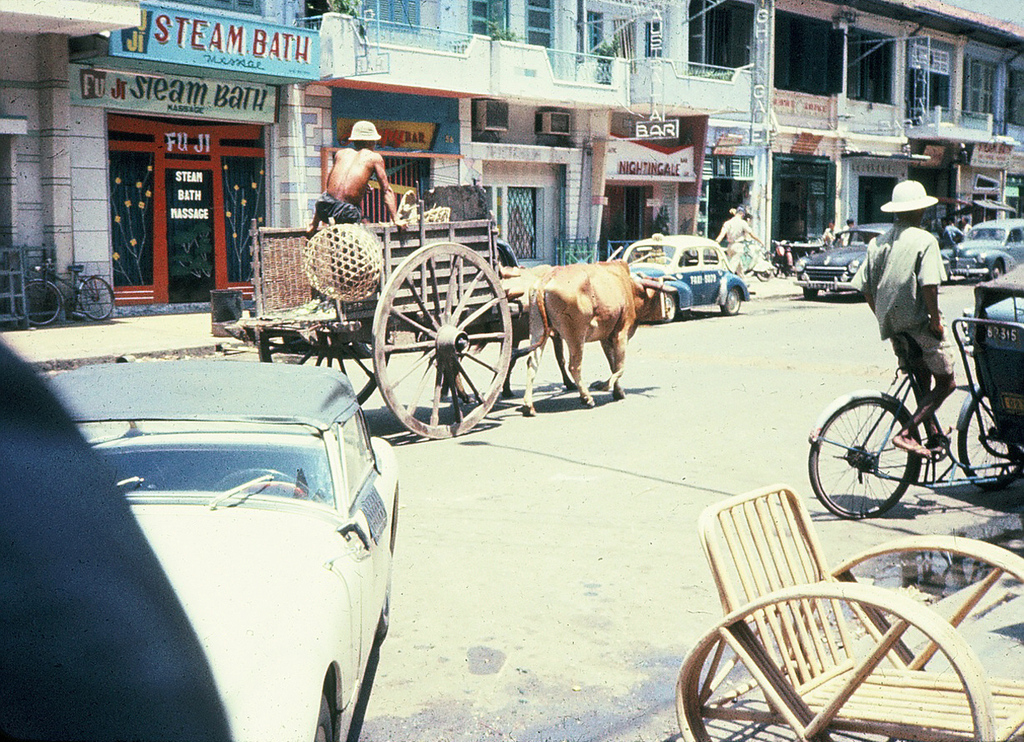Car: (71, 358, 408, 737), (622, 232, 750, 315), (787, 223, 892, 298), (939, 220, 1023, 279)
